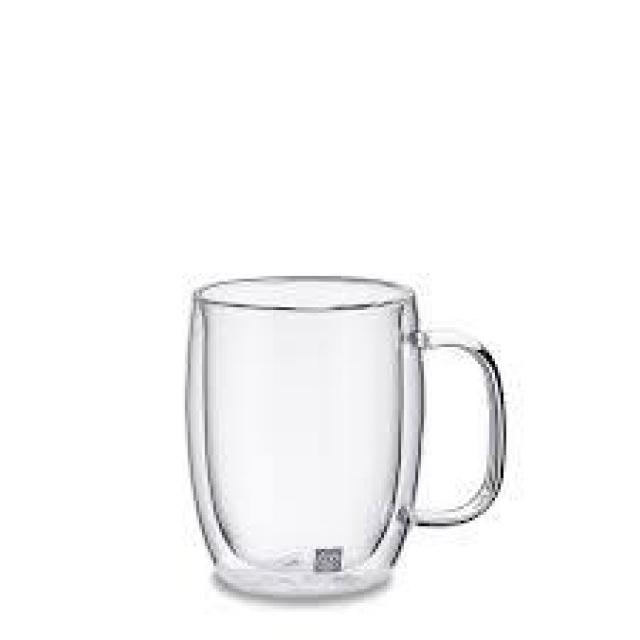non-organic waste: (179, 270, 512, 609)
